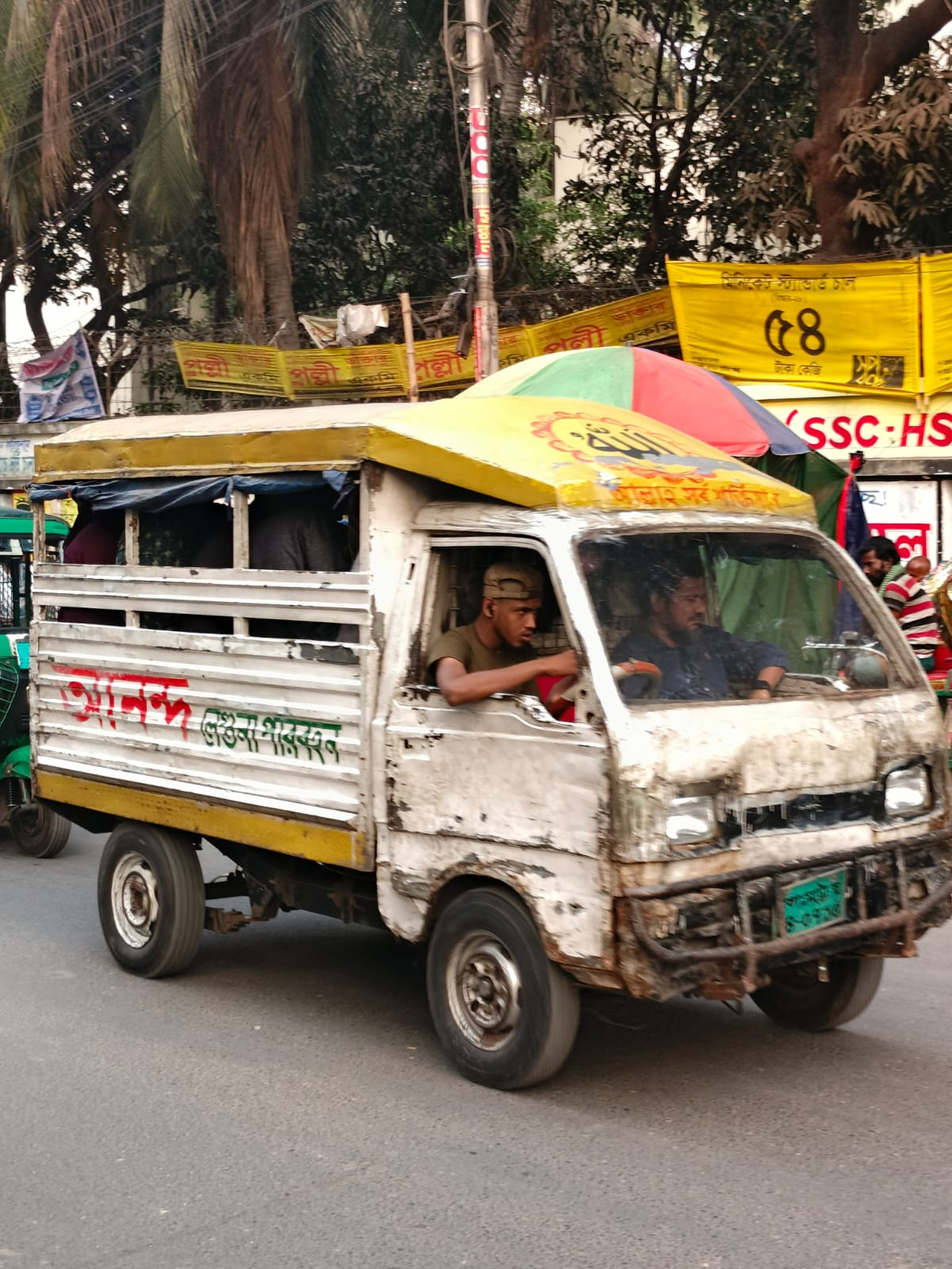Leguna: (21, 278, 952, 1141)
